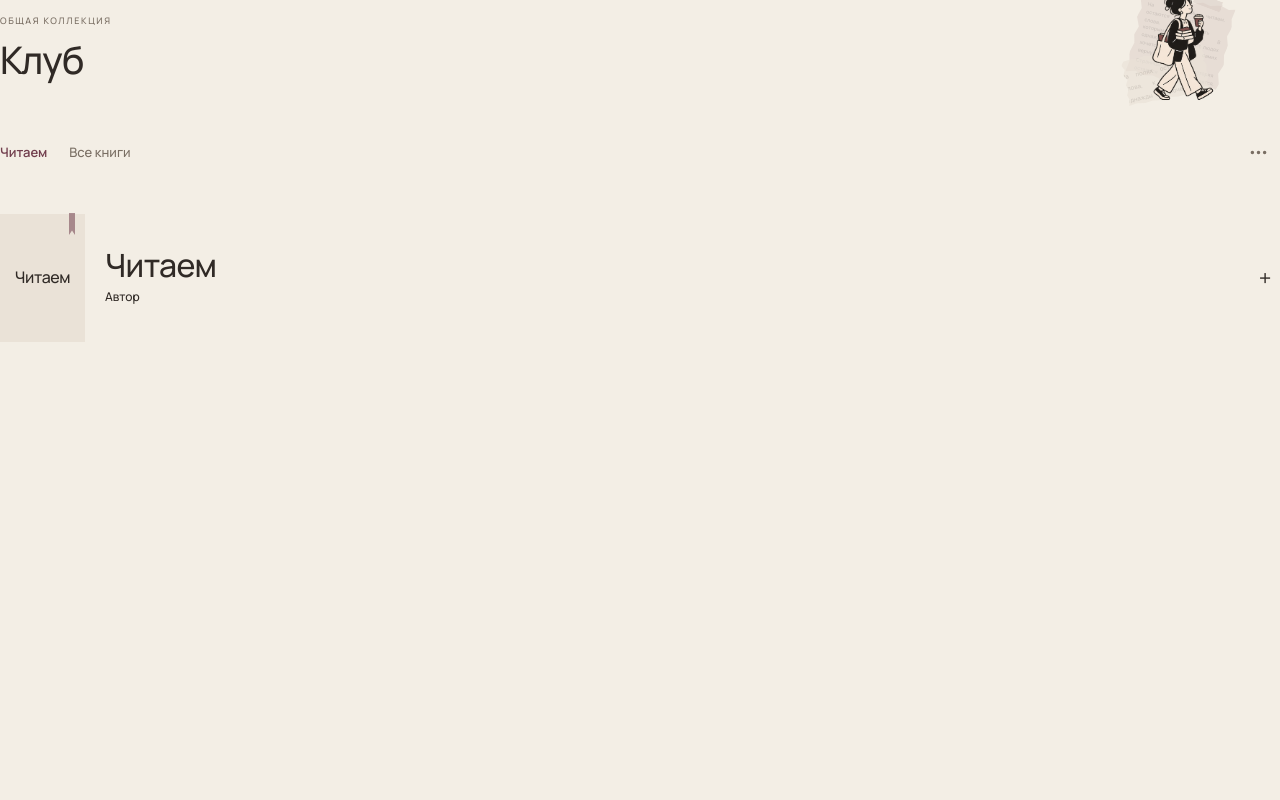
каталог разделён на текущие, будущие и прочитанные книги и поддерживает поиск
Expected: the heading "Читаем" is shown, x1=105 y1=243 x2=216 y2=287
Click the button "Все книги": (100, 152) x1=69 y1=130 x2=131 y2=174
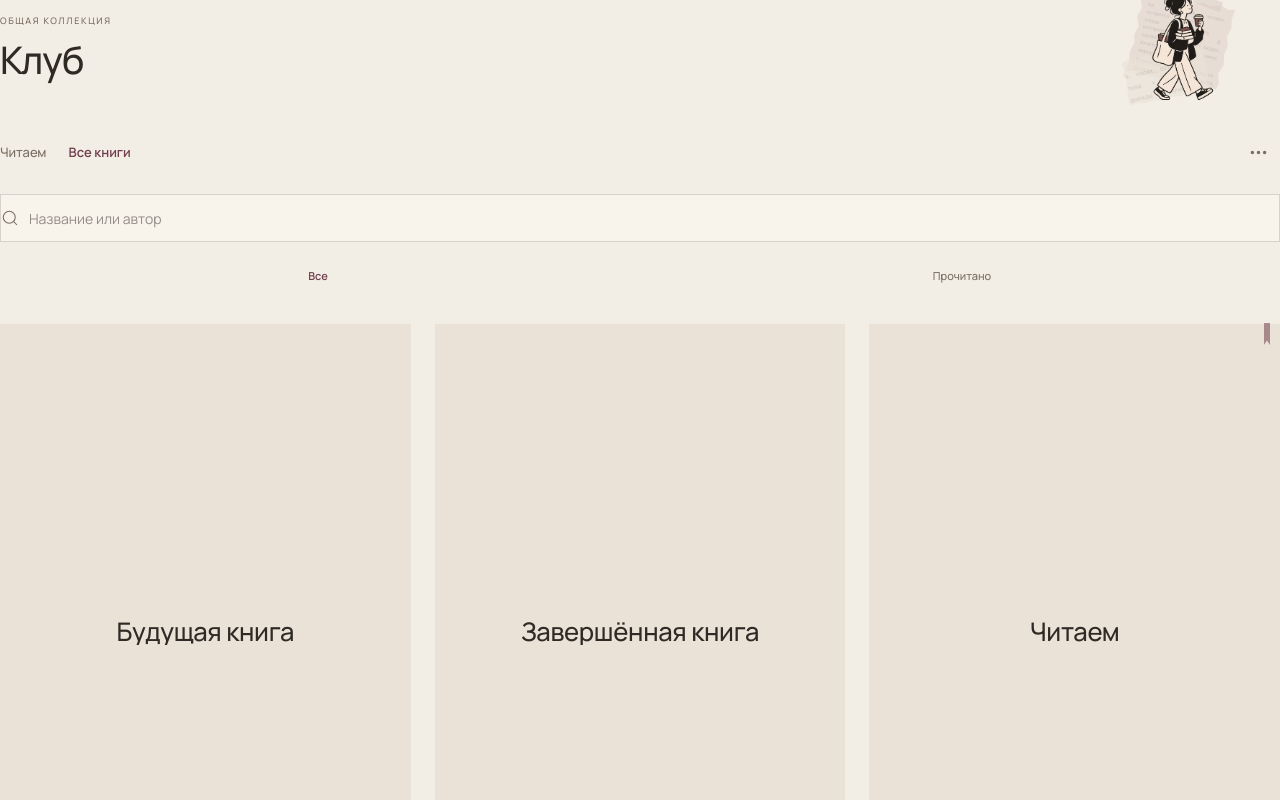
In the field named "Поиск книг клуба": (654, 218) x1=29 y1=195 x2=1279 y2=241, type "нет такого"
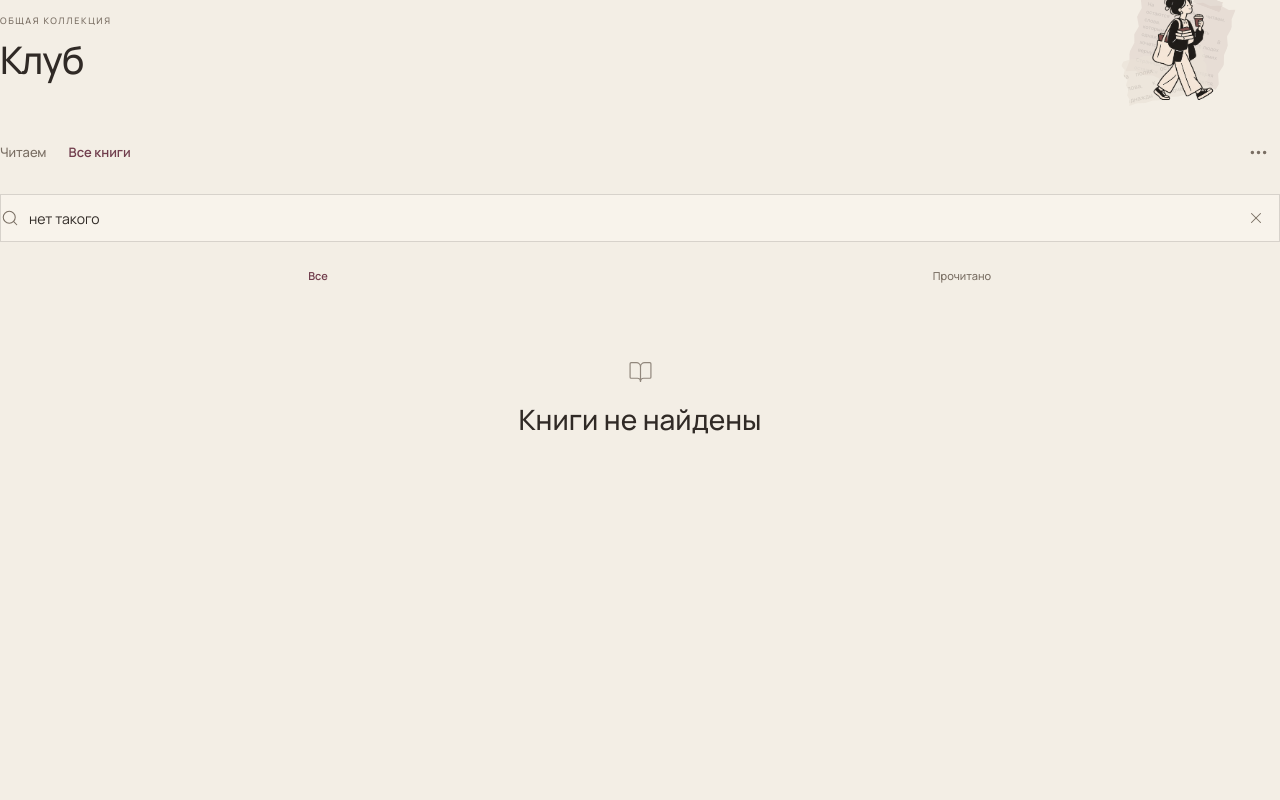
Expected: the heading "Книги не найдены" is shown, x1=518 y1=400 x2=762 y2=438
